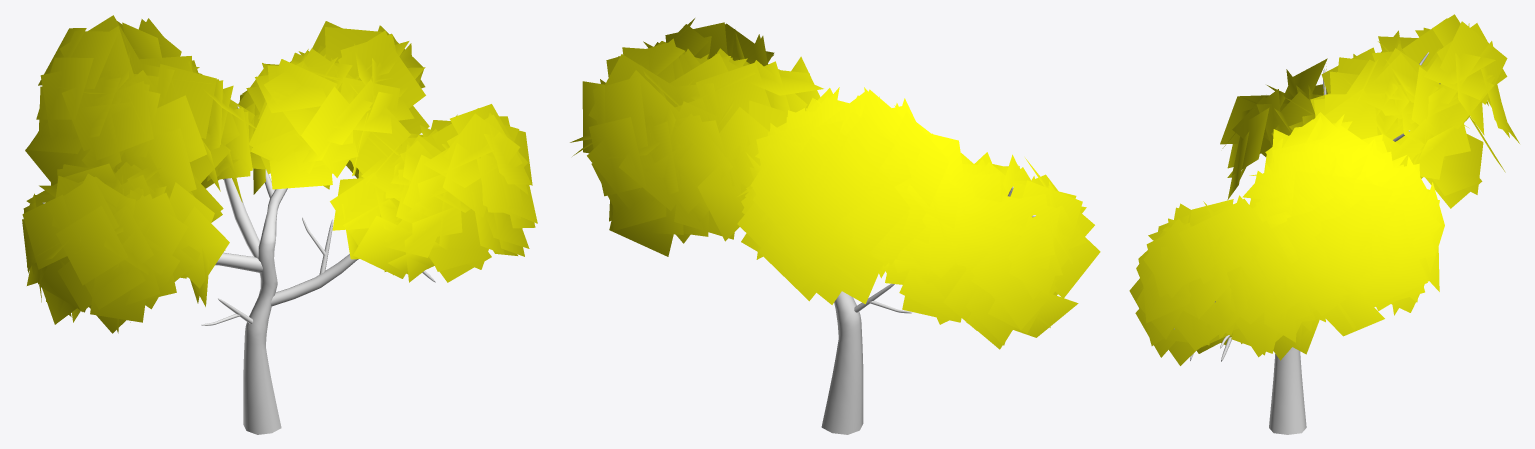
Rendered from MapleTree_3.glb.
3 views of the same model, side by side, from view 1: azimuth 30°, elevation 25°; view 2: azimuth 150°, elevation 25°; view 3: azimuth 270°, elevation 25° (orthographic). The views are drawn at different scales.
Parts seen in each view (by area): view 1: MapleTree_3; view 2: MapleTree_3; view 3: MapleTree_3.
Boxes of the visible parts, x1=… form: MapleTree_3: x1=22, y1=15, x2=537, y2=434; MapleTree_3: x1=570, y1=18, x2=1100, y2=434; MapleTree_3: x1=1129, y1=14, x2=1519, y2=434.
Bounding box in the file's own units: 8.98 × 6.99 × 6.61.
Materials: 2 (1 with a texture image).
